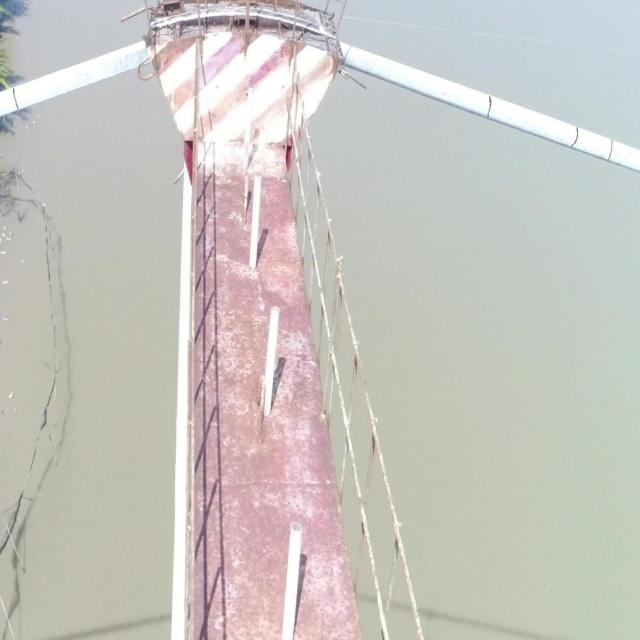crack: (570, 126, 579, 148), (12, 87, 19, 110), (607, 140, 614, 161), (486, 95, 492, 118)
